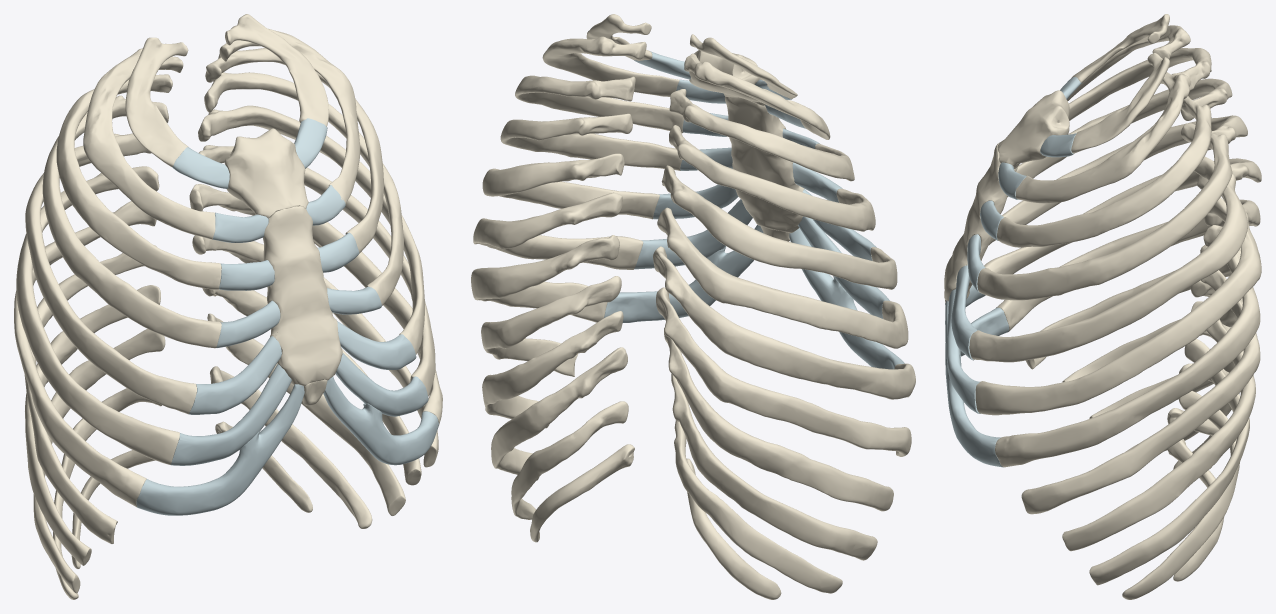
The model's file is rib-cage.glb.
3 views of the same model, side by side, from view 1: azimuth 30°, elevation 25°; view 2: azimuth 150°, elevation 25°; view 3: azimuth 270°, elevation 25° (orthographic). The views are drawn at different scales.
Visible parts, largest first — view 1: right_ribs, left_ribs, costal_cartilages, sternum; view 2: right_ribs, left_ribs, costal_cartilages, sternum; view 3: left_ribs, right_ribs, costal_cartilages, sternum.
Boxes of the visible parts, <box> form: right_ribs: <box>14,37,221,599</box>; left_ribs: <box>189,14,442,528</box>; costal_cartilages: <box>136,118,438,515</box>; sternum: <box>224,128,342,405</box>; right_ribs: <box>653,34,915,599</box>; left_ribs: <box>471,14,683,542</box>; costal_cartilages: <box>604,51,904,369</box>; sternum: <box>689,50,804,241</box>; left_ribs: <box>969,53,1261,599</box>; right_ribs: <box>984,14,1261,469</box>; costal_cartilages: <box>945,77,1082,467</box>; sternum: <box>944,90,1069,303</box>.
Size of the model in its own units: 0.2729 by 0.3624 by 0.2102.
